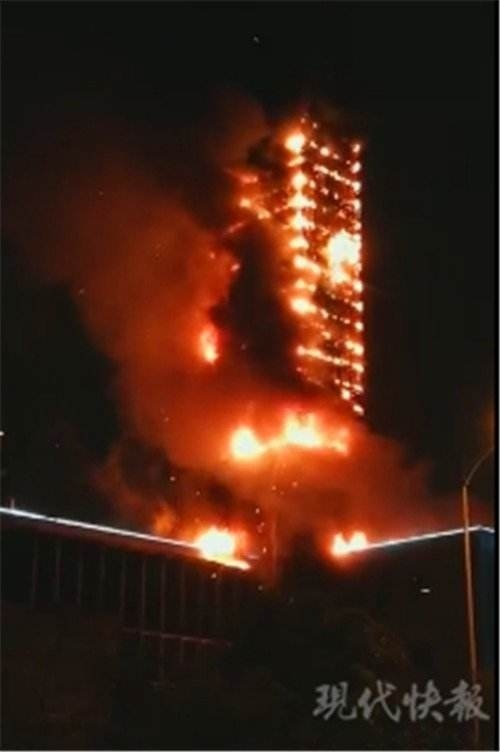fire: (189, 111, 375, 518)
